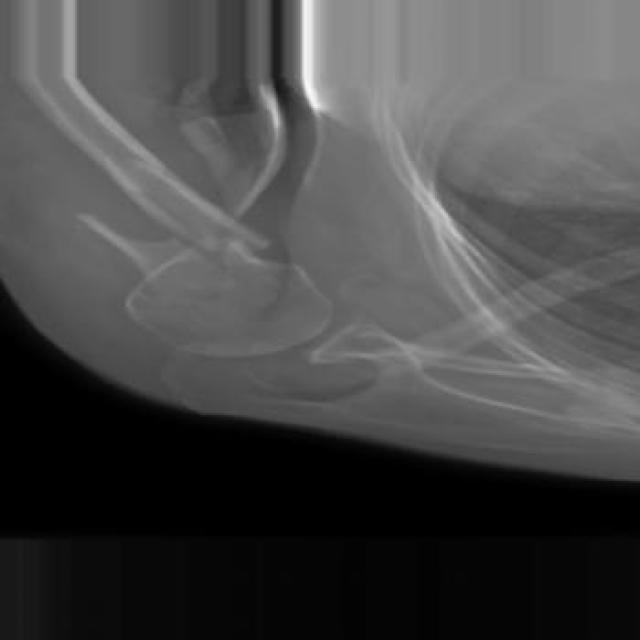Fracture: (62, 187, 289, 276)
